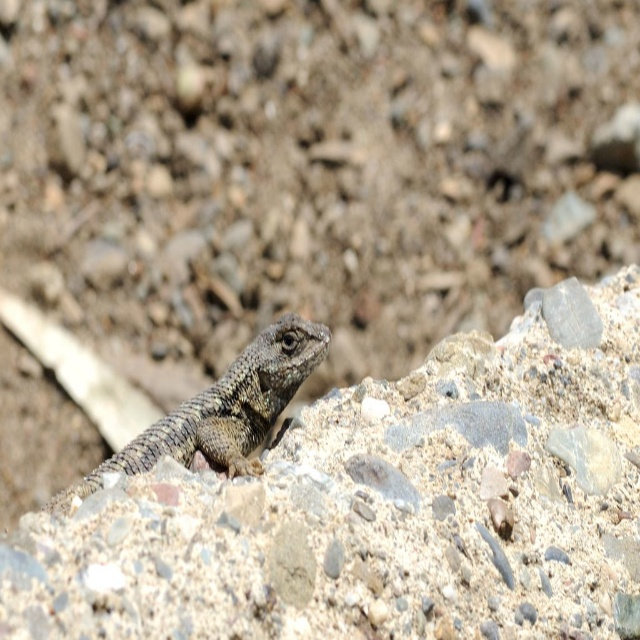Lizard: (53, 321, 332, 514)
